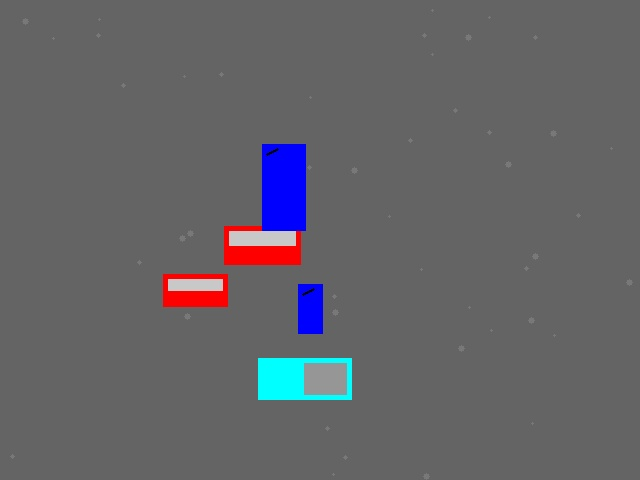car: (224, 226, 300, 264), (163, 274, 227, 306)
motorcycle: (262, 144, 305, 230), (298, 284, 322, 333)
truck: (258, 358, 351, 399)
